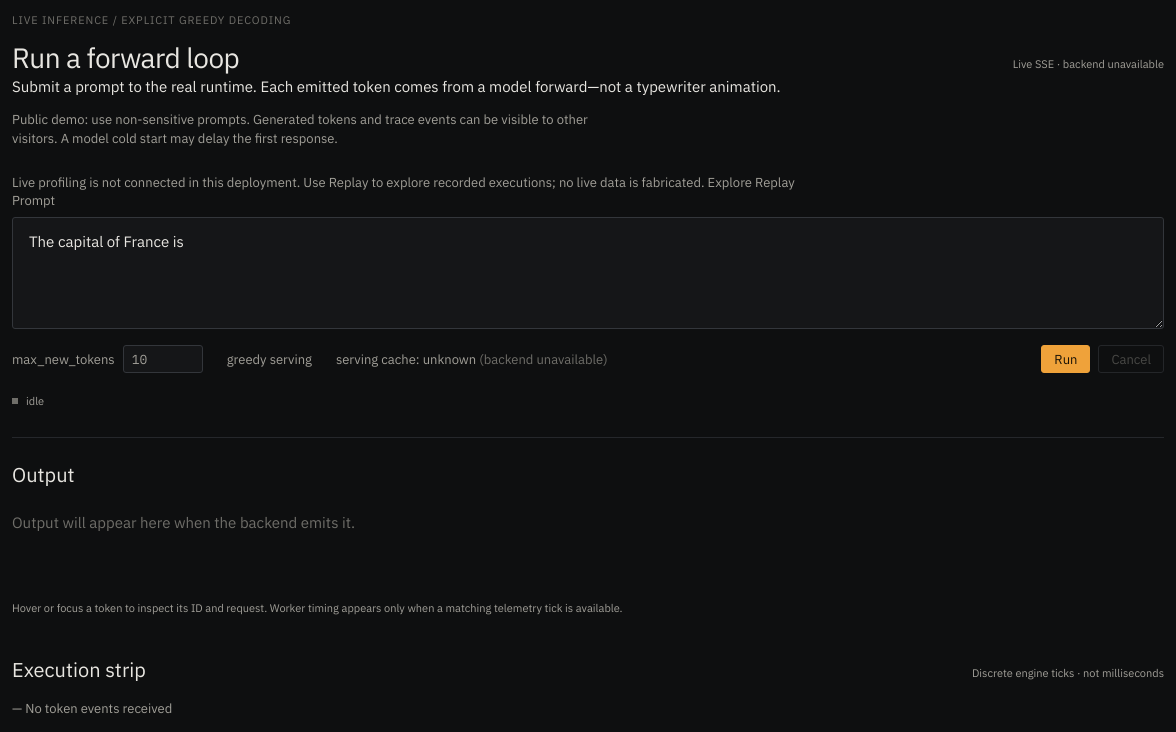
Test: zero-token completion has no fabricated token events or TTFT
Replace the text in the number field labelled "max_new_tokens" with "0" at (163, 359), box x1=123 y1=345 x2=203 y2=373
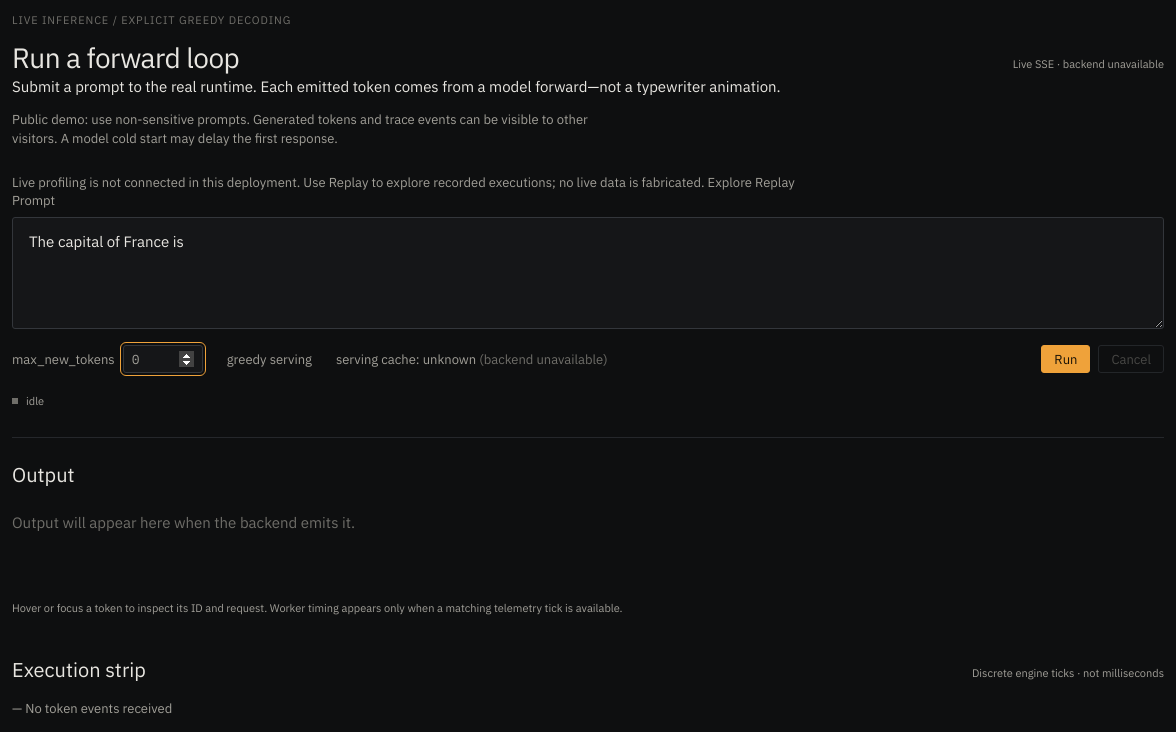
Click the button "Run" at (1066, 359), box x1=1041 y1=345 x2=1090 y2=373
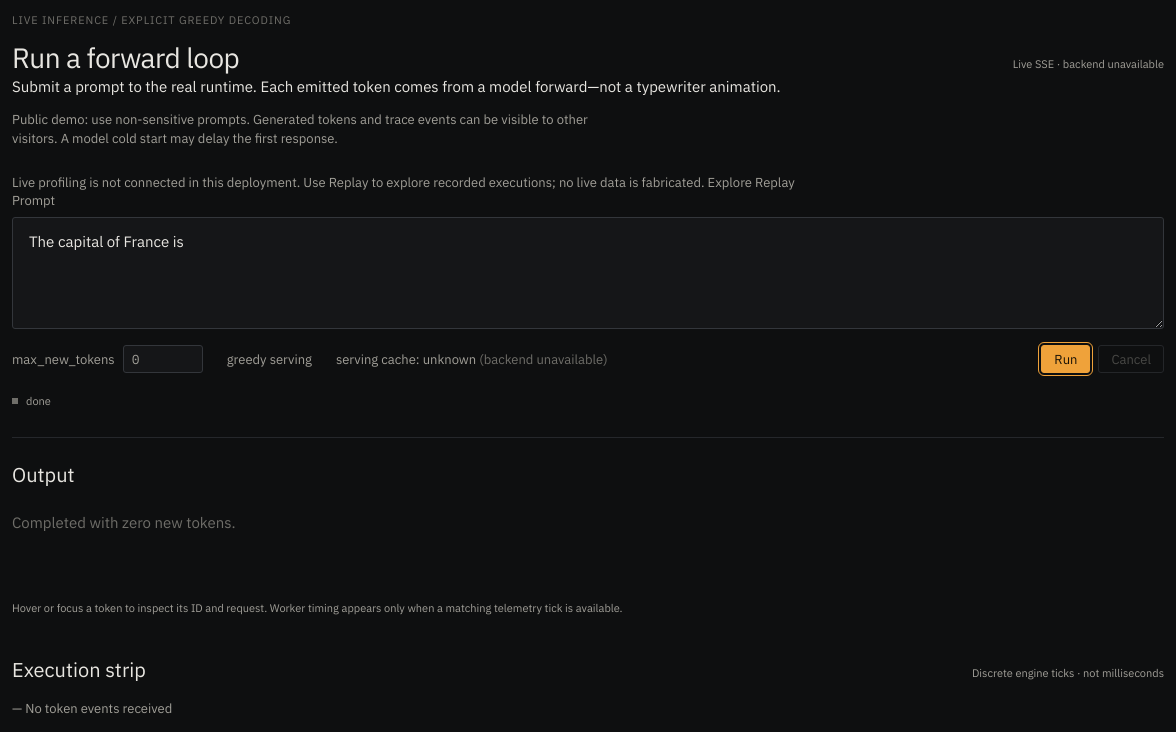
Check: the message reads "done", box x1=26 y1=394 x2=51 y2=408
